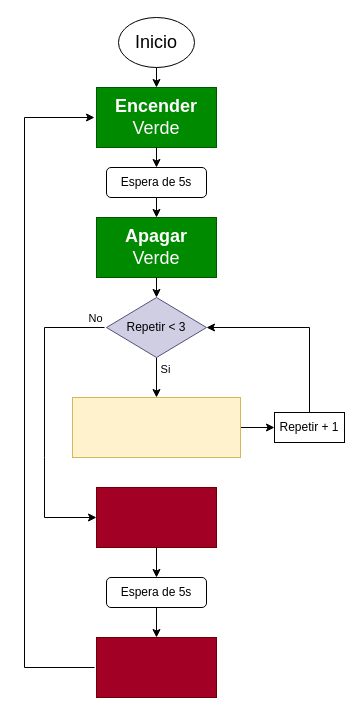
Image size: 362x715. Some labels were removed from this diagram. The box of each missing label's shape, as (x1, y1, x2, y2) in pixels:
Apagar Rojo: (96, 636, 216, 698)
Encender amarillo 0.5s Apagar amarillo 0.5s: (72, 396, 240, 458)
Encender Rojo: (96, 486, 216, 548)
